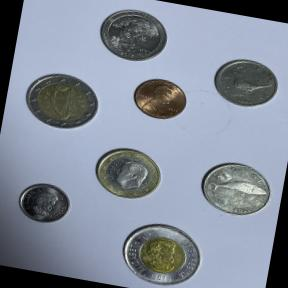1 Euro-B: (83, 138, 172, 210)
2 Euro-B: (11, 64, 106, 142)
Canada-10cent-B: (11, 174, 76, 229)
Canada-2Dollar-B: (107, 207, 212, 288)
Croatia-2Kune-B: (186, 150, 280, 227)
US-1cent-B: (124, 68, 197, 128)
US-25cent-B: (88, 0, 176, 71)
